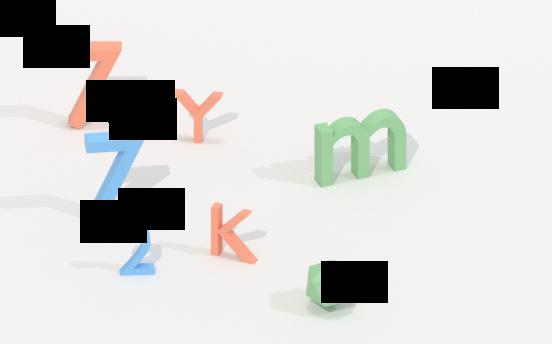2: (112, 218, 162, 280)
7: (76, 126, 151, 223), (54, 37, 129, 133)
Y-hoa: (168, 84, 228, 146)
dagiac: (303, 259, 358, 311)
k: (206, 200, 262, 267)
m: (311, 108, 413, 189)
